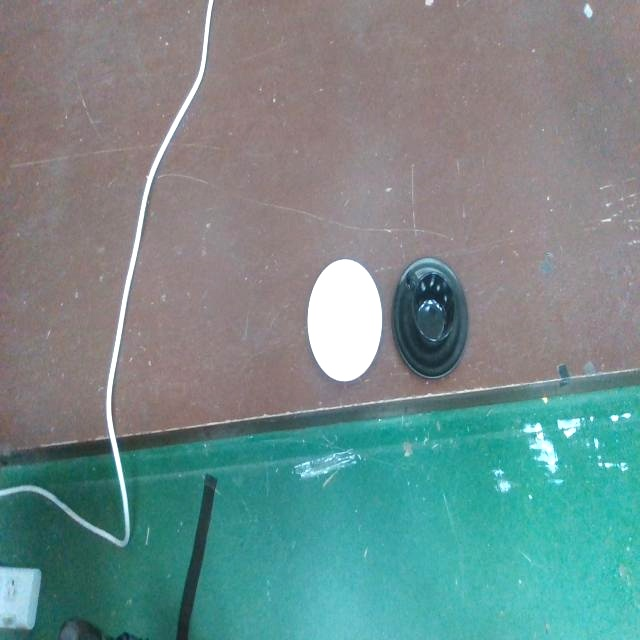black: (391, 253, 468, 383)
white: (304, 255, 384, 387)
